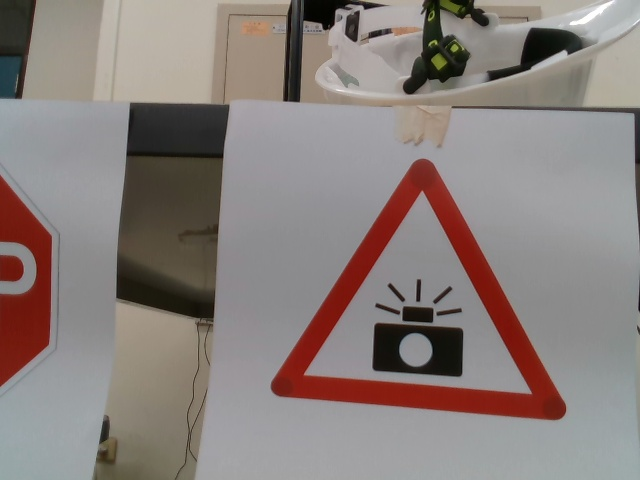camera: (268, 156, 568, 429)
helmet: (312, 1, 640, 104)
